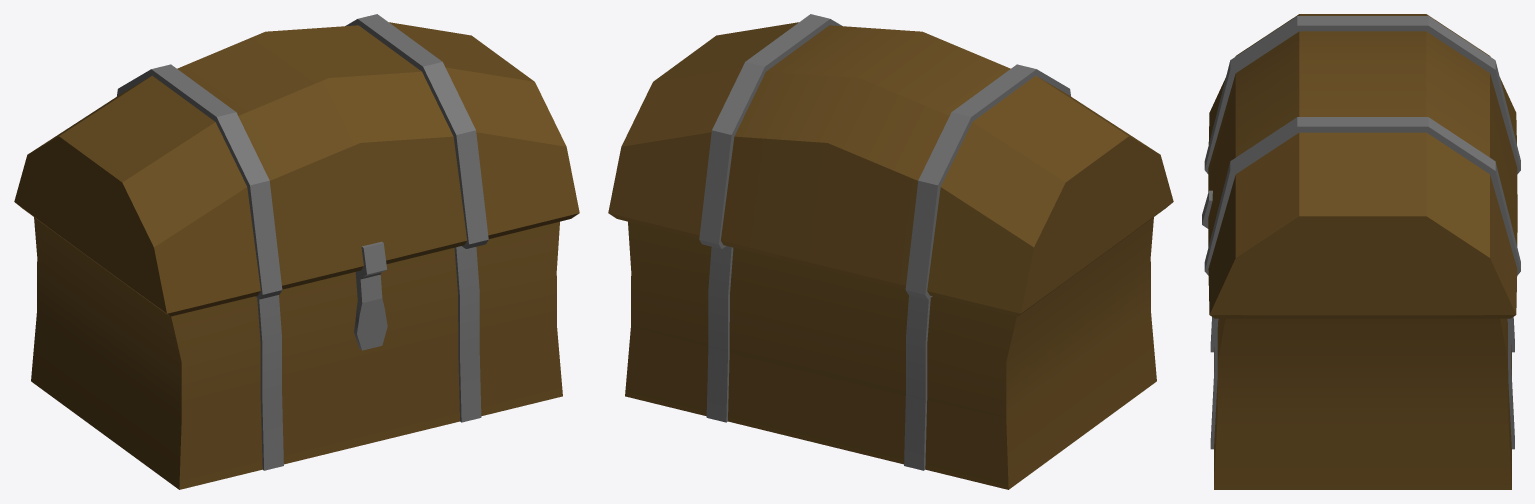
Rendered from mesh_chest.fbx.
3 renders of one model, left to right at view 1: azimuth 30°, elevation 25°; view 2: azimuth 150°, elevation 25°; view 3: azimuth 270°, elevation 25°, orthographic.
Parts seen in each view (by area): view 1: chest; view 2: chest; view 3: chest.
Part boxes in pixels (bbox=[...]): chest: bbox=[14, 14, 579, 489]; chest: bbox=[608, 14, 1173, 489]; chest: bbox=[1202, 14, 1520, 489].
Size of the model in its own units: 145 by 112 by 96.35.
1 material, 1 textured.
